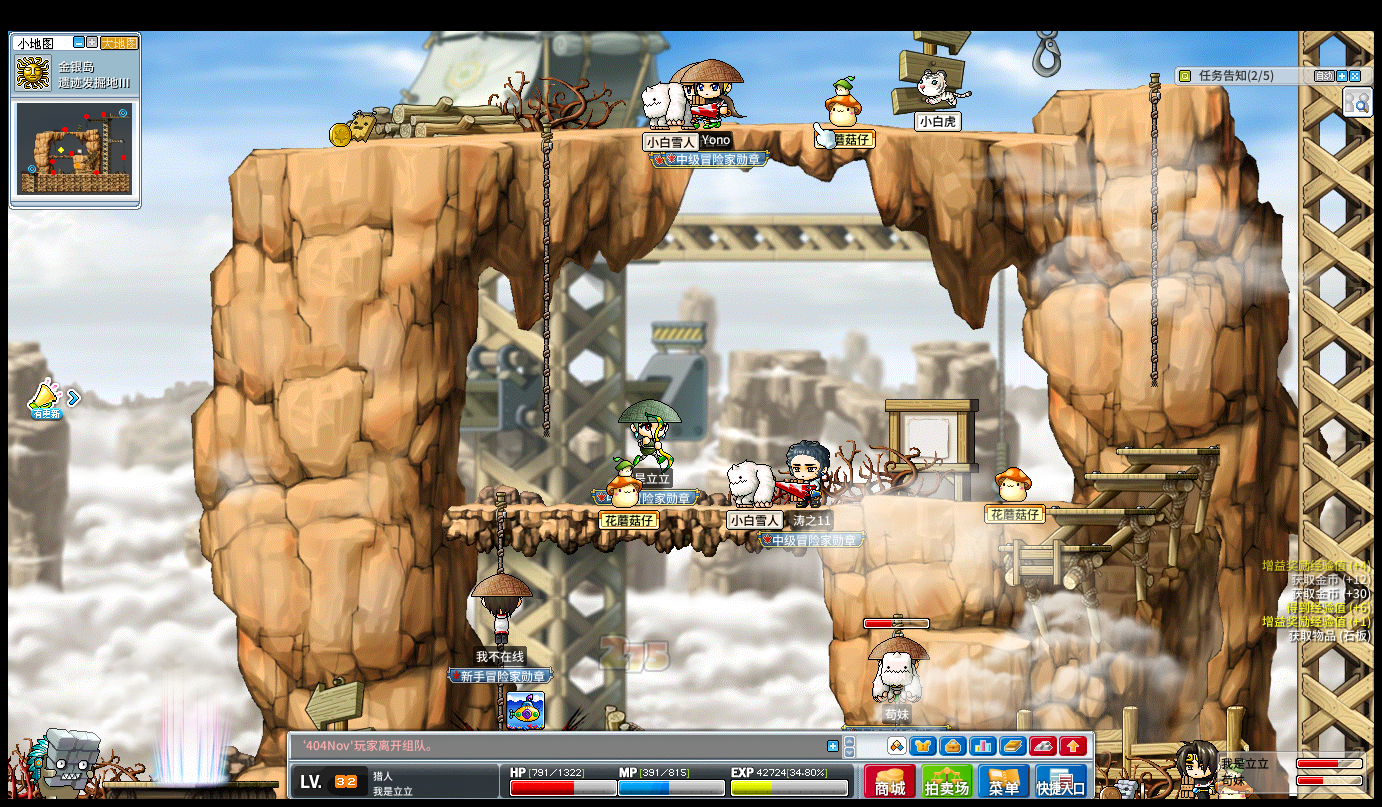floor: (224, 116, 1059, 150), (445, 502, 824, 516), (440, 504, 827, 514), (921, 629, 1030, 649), (1057, 80, 1177, 95), (933, 497, 1082, 507), (1078, 471, 1195, 481), (1116, 445, 1221, 456), (1041, 507, 1156, 516), (995, 544, 1111, 552)
monster: (27, 728, 100, 794)
rope: (1146, 72, 1161, 385), (538, 120, 551, 446), (492, 492, 506, 572)
